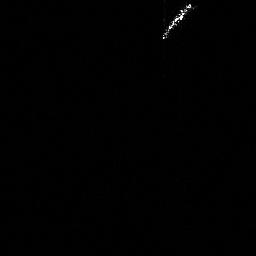ship: (161, 3, 197, 41)
